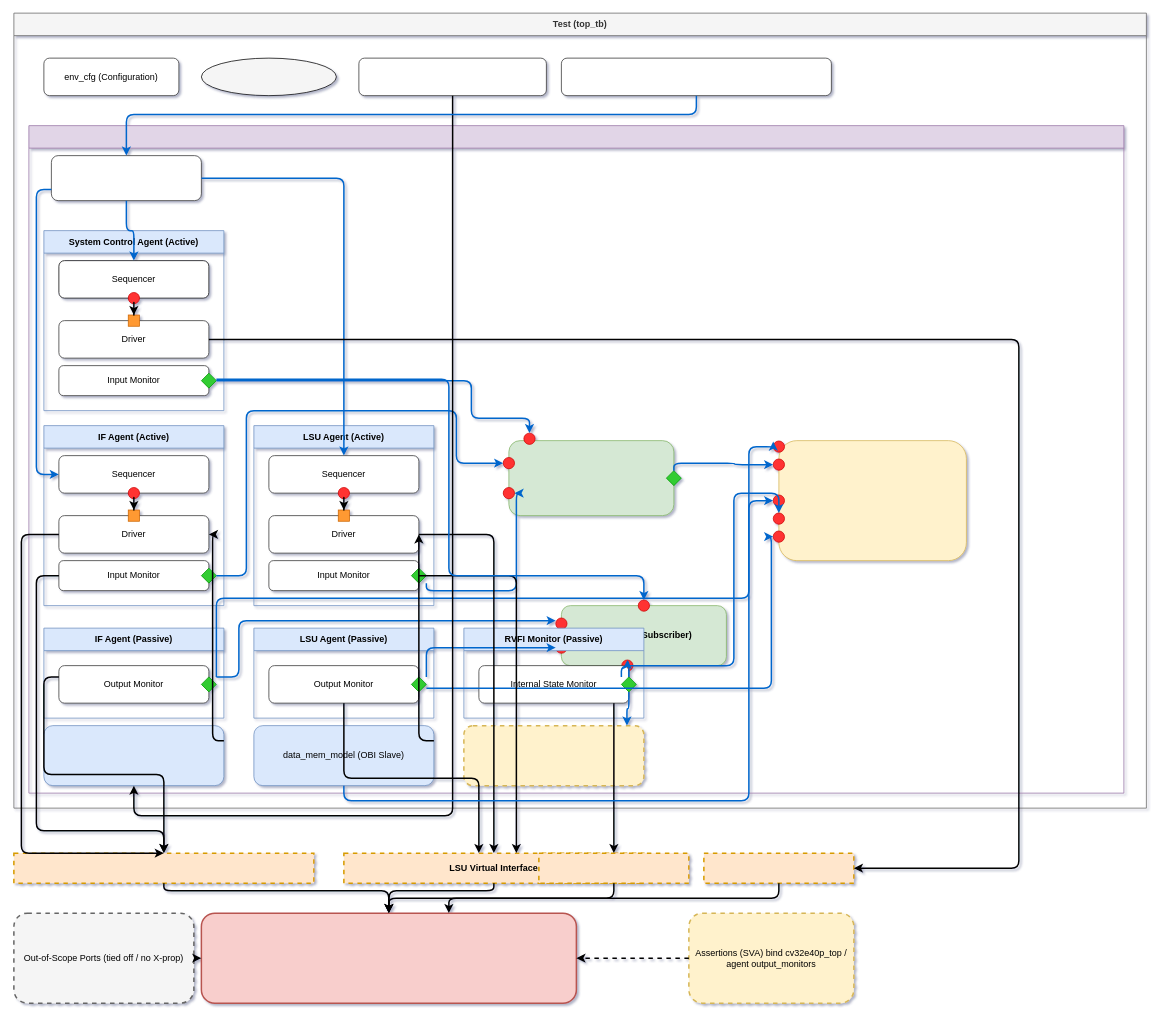
Some shapes in this 1164 by 1022 pixel diagram are drawn without their labels. The shapes that lost their labels are listed below. From the top down, each one's centre as x and y in pixels, then its label:
At [268,76]: "Virtual Sequences".
At [452,76]: "riscv_program (Program Builder)".
At [696,76]: "Sequence Library (riscv_*_sequence, obi_memory_sequence)".
At [126,178]: "Virtual Sequencer (v_sqr)".
At [591,478]: "Reference Model (Subscriber)".
At [872,500]: "uvm_scoreboard".
At [133,755]: "instr_mem_model (OBI Slave)".
At [553,755]: "Watchdog Timer (global timeout)".
At [163,868]: "IF Virtual Interface".
At [613,868]: "RVFI Internal Interface".
At [778,868]: "System Control Interface".
At [388,958]: "Design Under Test (CV32E40P)".
